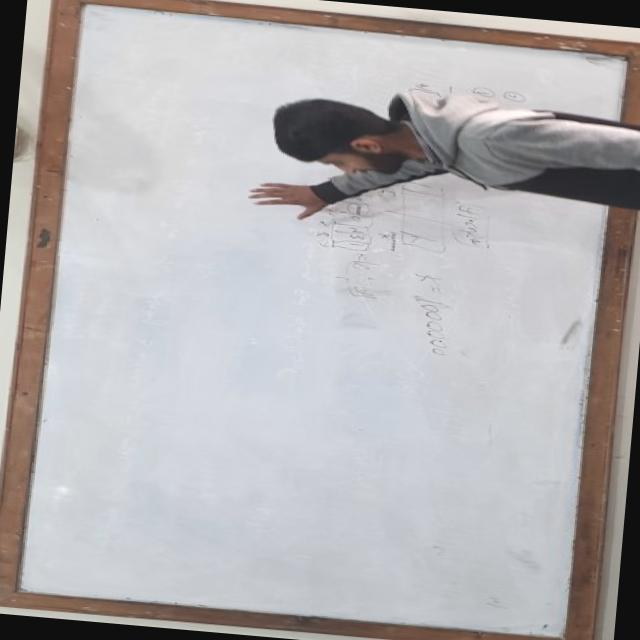Instructor: (251, 73, 640, 216)
White-board: (2, 0, 640, 640)
